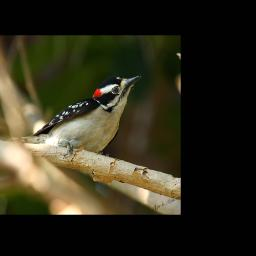Woodpecker: (6, 70, 142, 160)
